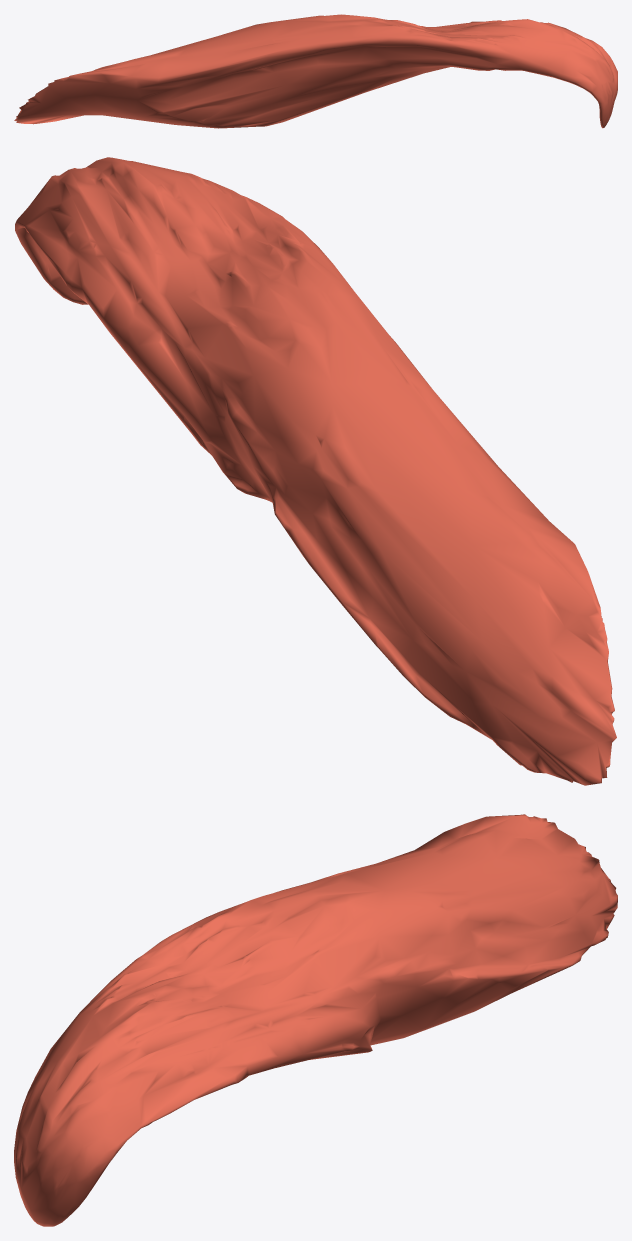
File: supraspinatus.glb
The picture shows the model from 3 angles, top to bottom: view 1: azimuth 30°, elevation 25°; view 2: azimuth 150°, elevation 25°; view 3: azimuth 270°, elevation 25°; orthographic projection. The views are drawn at different scales.
Parts seen in each view (by area): view 1: Supraspinatus muscle.l; view 2: Supraspinatus muscle.l; view 3: Supraspinatus muscle.l.
Part boxes in pixels (<box>): Supraspinatus muscle.l: <box>14,14,617,128</box>; Supraspinatus muscle.l: <box>15,157,616,785</box>; Supraspinatus muscle.l: <box>14,814,617,1226</box>.
Bounding box in the file's own units: 0.125 × 0.0327 × 0.0847.
